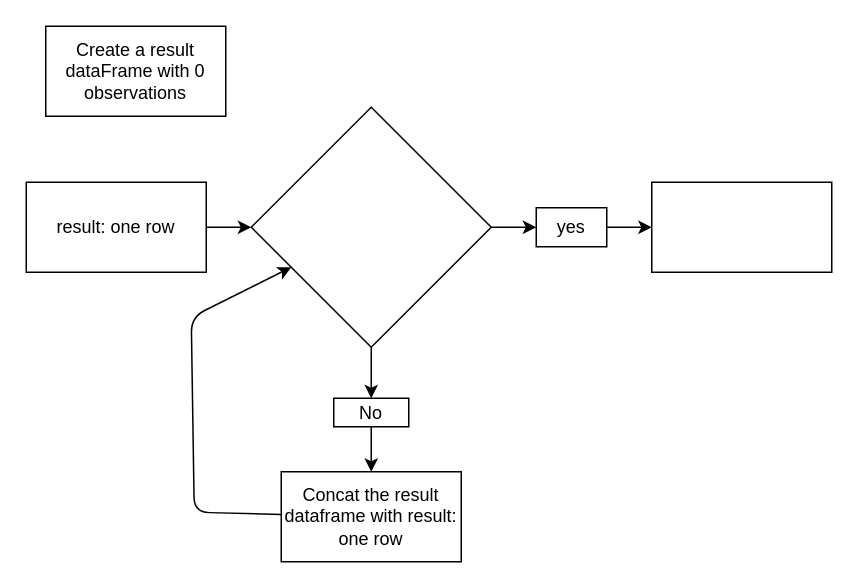
The diagram is 858 pixels wide and 588 high, and some of its shapes have lost their labels. Each missing label, with the centre of its shape:
"Export csv, output directory" belongs at (x=741, y=226).
"Is the final Row?" belongs at (x=370, y=226).
